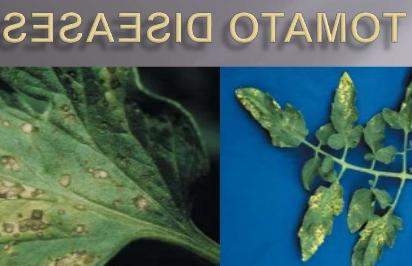Tomato Septoria leaf spot: (0, 73, 206, 266), (233, 79, 311, 160), (294, 178, 352, 261), (329, 210, 405, 266), (323, 70, 367, 159)
